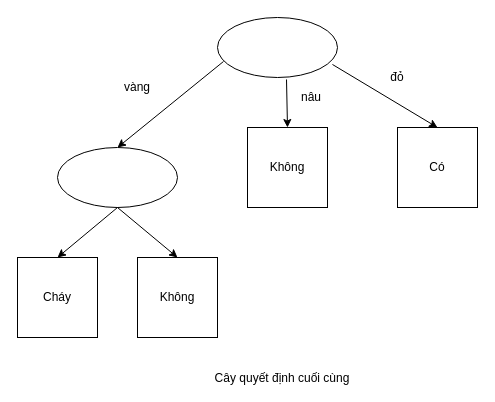
This 495x402 diagram has some shape labels left out. Each missing label, with the box of its shape:
Dùng kem: (56, 146, 178, 208)
Tóc: (216, 16, 338, 78)
